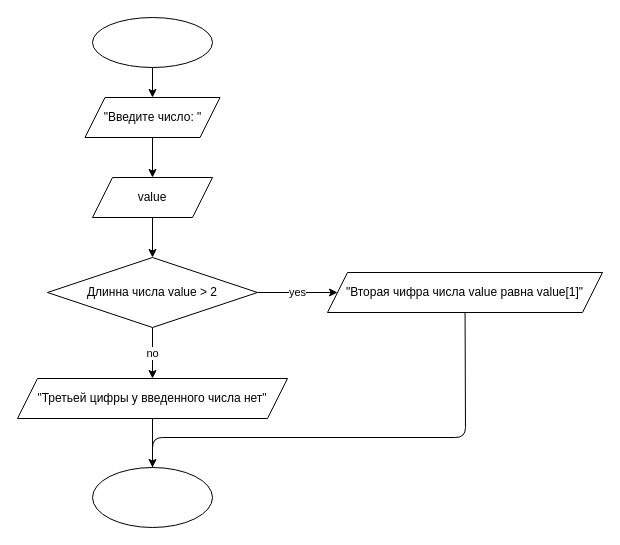
The diagram is 620 pixels wide and 545 high, and some of its shapes have lost their labels. Here are the shapes that lost their labels. From the top down, the centre of each, then its label:
[152,42]: Start
[152,497]: End
